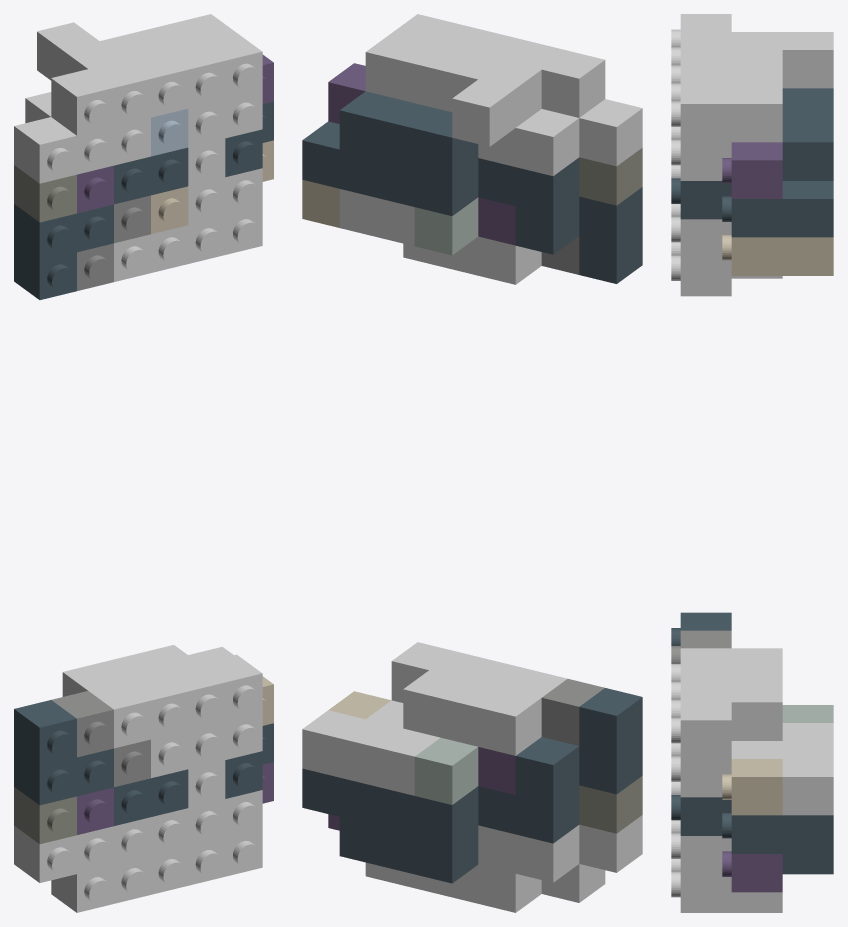
The model's file is full.glb.
3 renders of one model, left to right at view 1: azimuth 30°, elevation 25°; view 2: azimuth 150°, elevation 25°; view 3: azimuth 270°, elevation 25°, orthographic.
Parts seen in each view (by area): view 1: world; view 2: world; view 3: world.
Part boxes in pixels (x1,y1,x2,y2): world: [14, 14, 273, 912]; world: [302, 14, 642, 912]; world: [671, 14, 833, 912].
Size of the model in its own units: 56 by 168 by 30.6.
